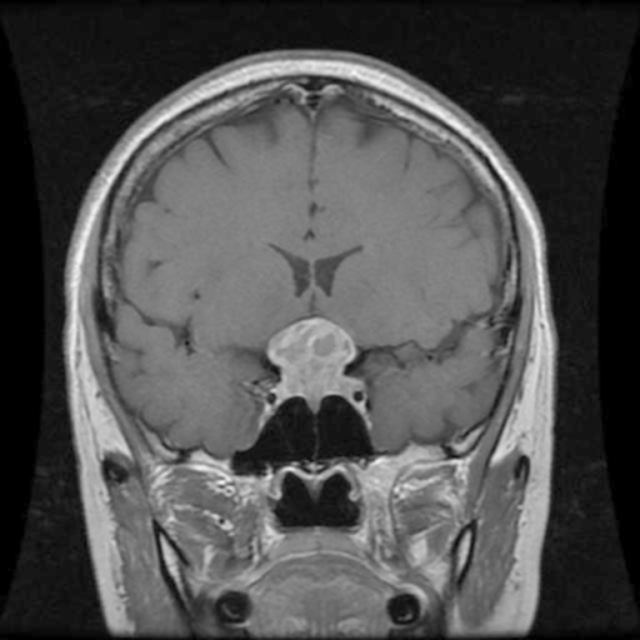no tumor: (260, 306, 371, 396)
